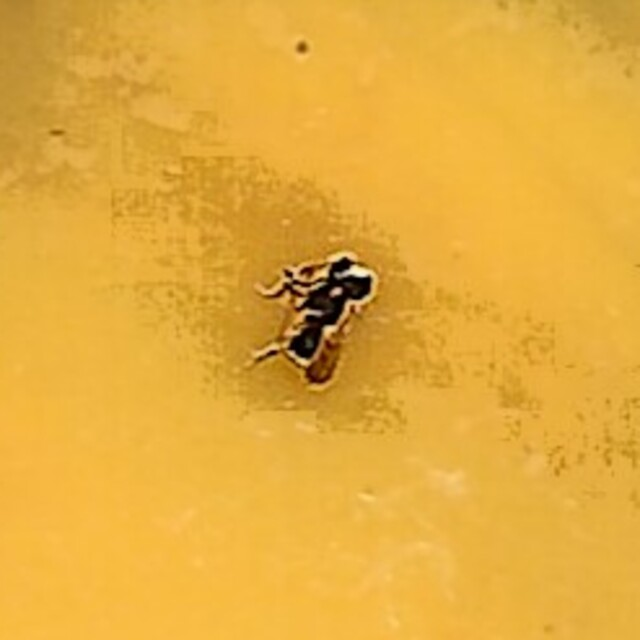Hymenoptera: (259, 252, 381, 388)
